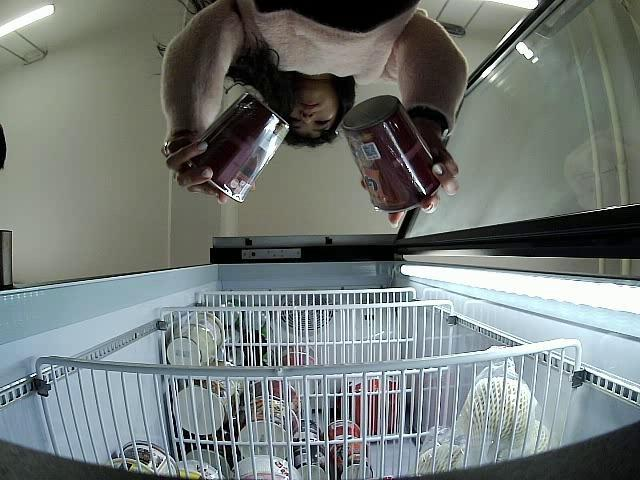06_nuguri_S: (341, 94, 446, 212), (197, 94, 287, 202)
